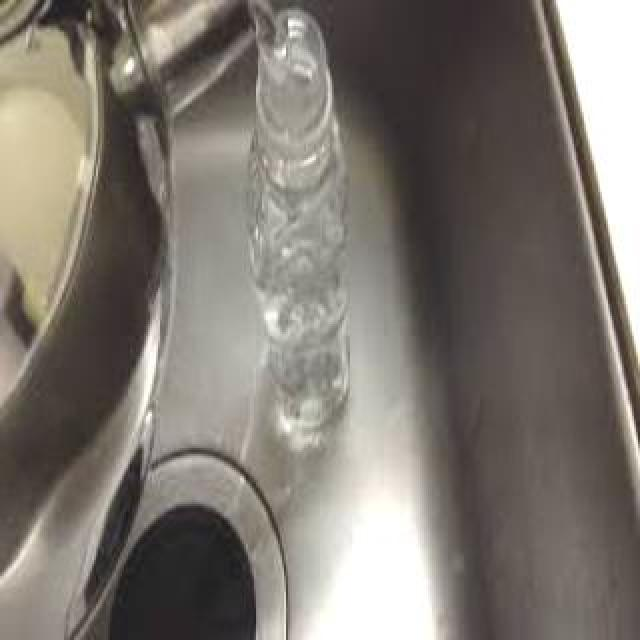Pet_Bottle: (247, 8, 349, 440)
